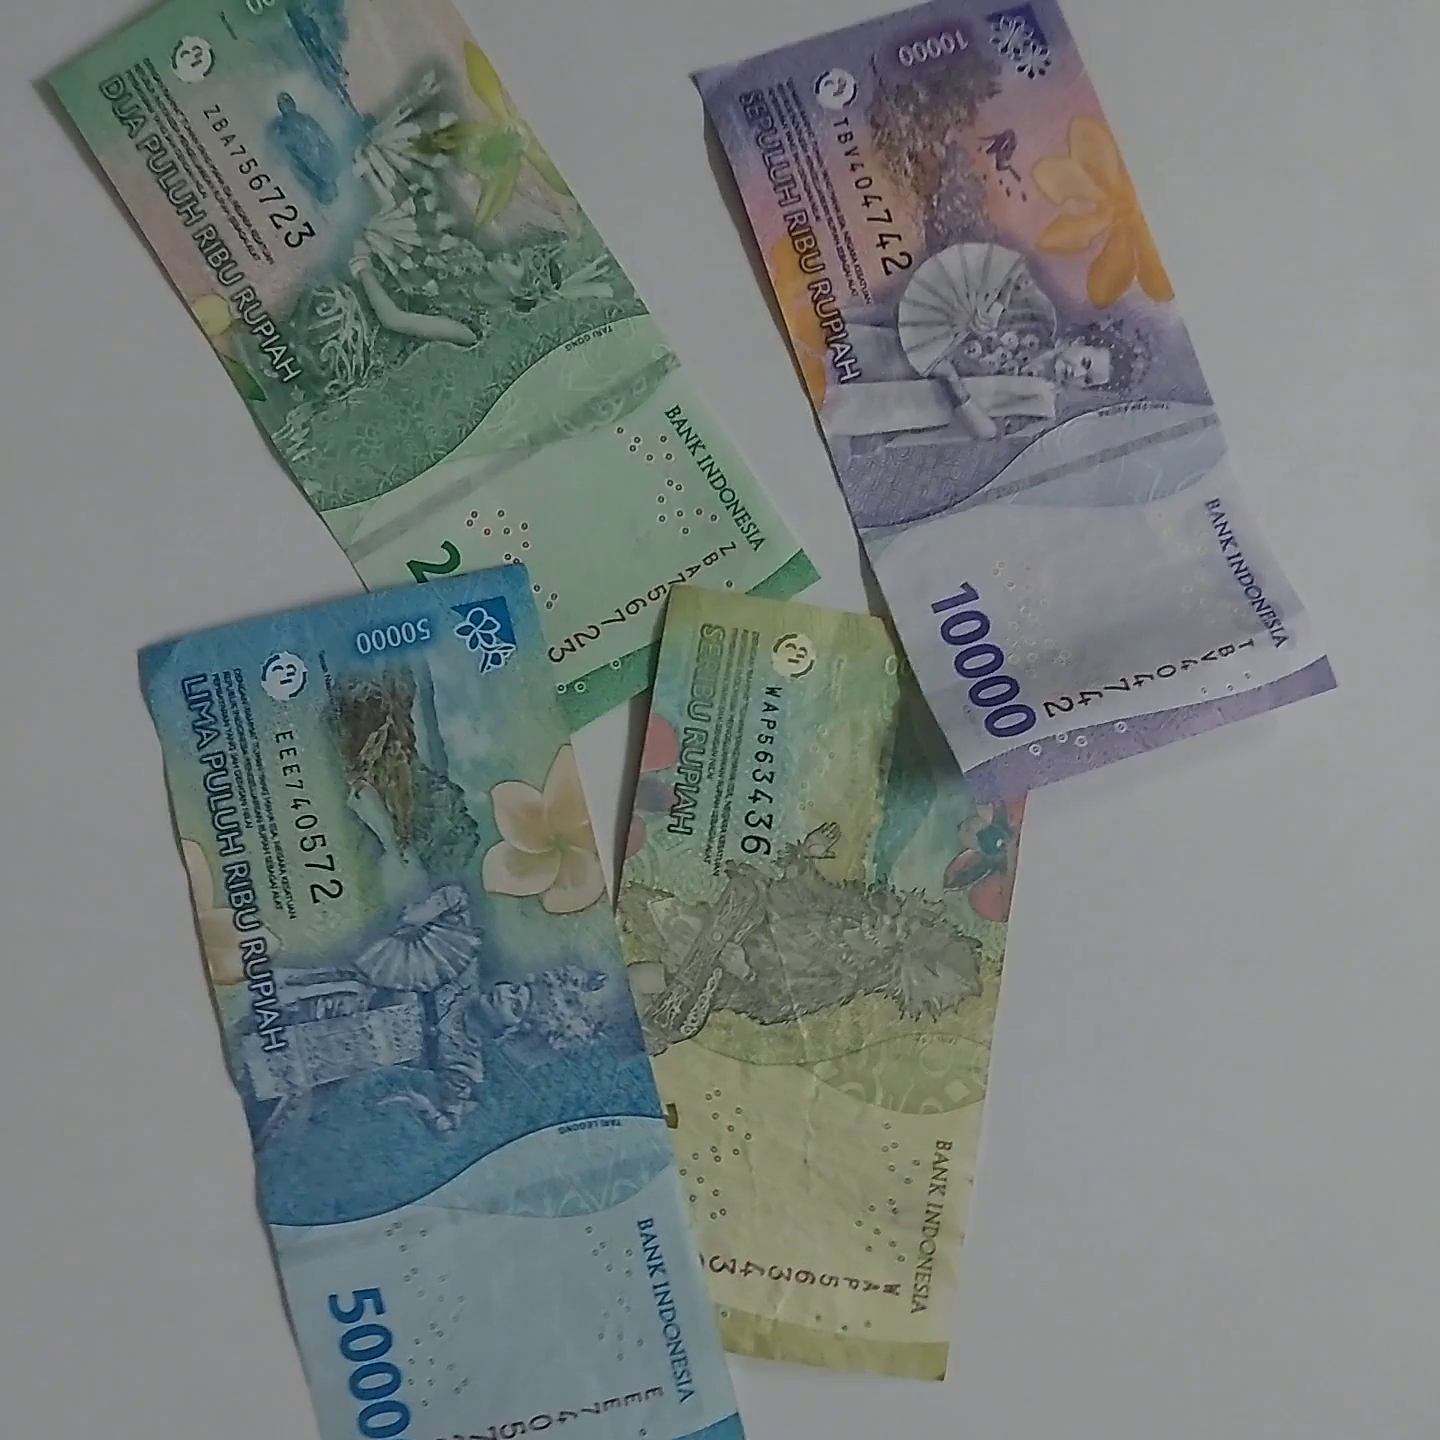10k: (750, 0, 1391, 802)
1k: (613, 514, 1017, 1410)
20k: (70, 0, 720, 667)
50k: (99, 554, 733, 1440)
